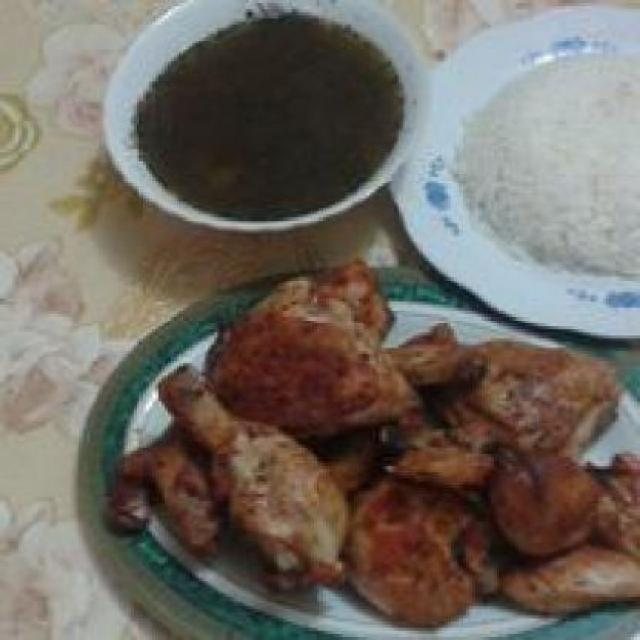chicken wings: (142, 366, 346, 588)
molokhia: (131, 12, 435, 234)
